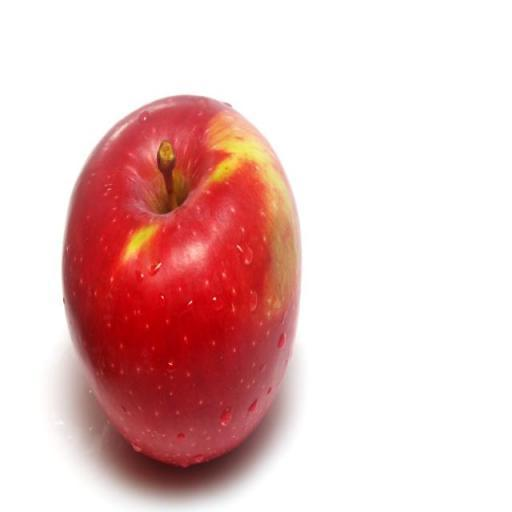fruit: (64, 96, 297, 464)
